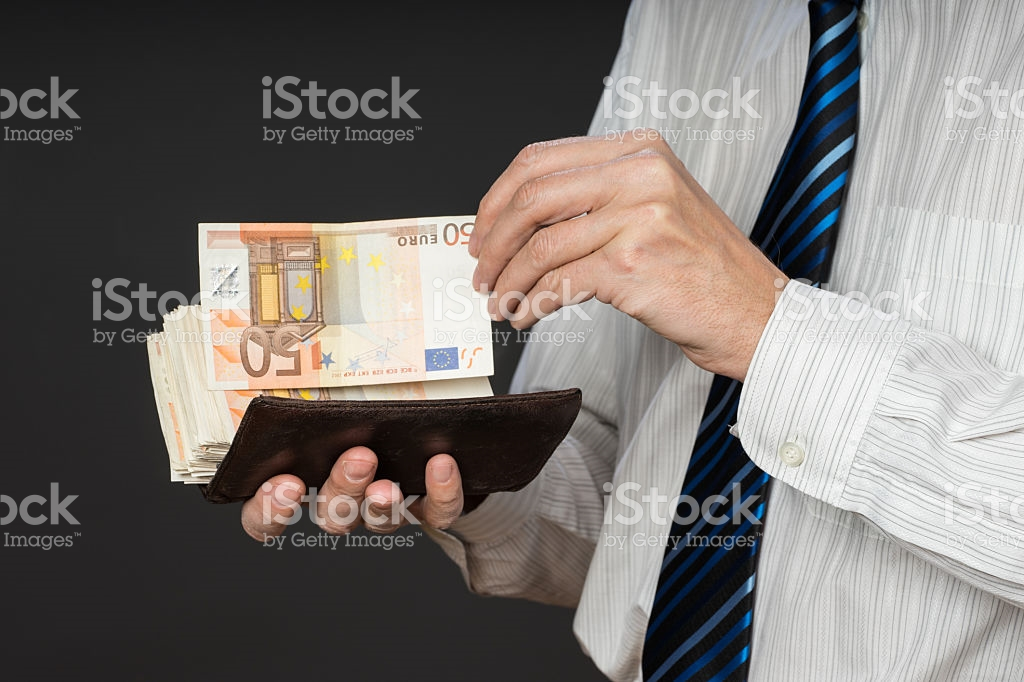billete: (143, 211, 499, 492)
